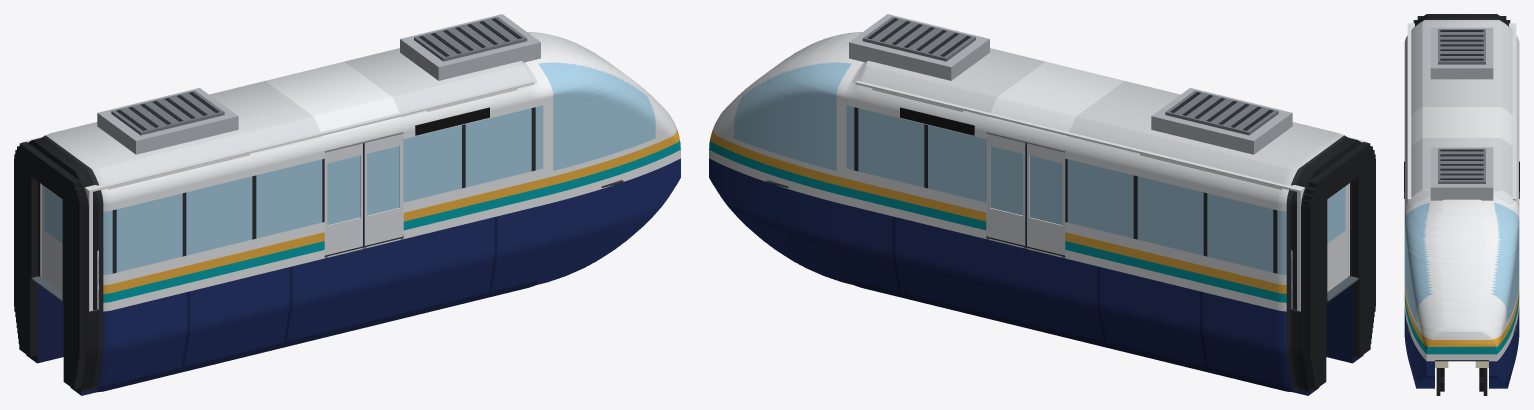
File: las_vegas_front.obj
3 renders of one model, left to right at view 1: azimuth 30°, elevation 25°; view 2: azimuth 150°, elevation 25°; view 3: azimuth 270°, elevation 25°, orthographic. The views are drawn at different scales.
Parts seen in each view (by area): view 1: SHELL, SHELL_roof, SHELL_diaphragm, EXTERNAL_DOOR_3_CG_DR1_TOGGLE_TL_-0.79_X, EXTERNAL_DOOR_4_CG_DR1_TOGGLE_TL_0.79_X, SHELL_ceiling, CONNECTING_DOOR_1_CG_CR_TOGGLE_TL_0.98_Z, SHELL_sign, SHELL_end; view 2: SHELL, SHELL_roof, SHELL_diaphragm, EXTERNAL_DOOR_6_CG_DL1_TOGGLE_TL_-0.79_X, EXTERNAL_DOOR_7_CG_DL1_TOGGLE_TL_0.79_X, SHELL_ceiling, CONNECTING_DOOR_1_CG_CR_TOGGLE_TL_0.98_Z, SHELL_sign, SHELL_end; view 3: SHELL, SHELL_roof, SHELL_ceiling, BOGEY_FRONT, HEADLIGHT_1.
Boxes of the visible parts, box(x1,y1,x2,y2) form: SHELL: box(26, 32, 680, 395); SHELL_roof: box(97, 14, 540, 154); SHELL_diaphragm: box(14, 142, 86, 389); EXTERNAL_DOOR_3_CG_DR1_TOGGLE_TL_-0.79_X: box(324, 143, 364, 255); EXTERNAL_DOOR_4_CG_DR1_TOGGLE_TL_0.79_X: box(364, 133, 403, 245); SHELL_ceiling: box(25, 80, 534, 191); CONNECTING_DOOR_1_CG_CR_TOGGLE_TL_0.98_Z: box(42, 184, 62, 291); SHELL_sign: box(415, 107, 489, 135); SHELL_end: box(22, 141, 92, 311); SHELL: box(709, 32, 1363, 395); SHELL_roof: box(849, 14, 1292, 154); SHELL_diaphragm: box(1303, 142, 1375, 389); EXTERNAL_DOOR_6_CG_DL1_TOGGLE_TL_-0.79_X: box(1025, 143, 1065, 255); EXTERNAL_DOOR_7_CG_DL1_TOGGLE_TL_0.79_X: box(986, 133, 1025, 245); SHELL_ceiling: box(855, 80, 1364, 191); CONNECTING_DOOR_1_CG_CR_TOGGLE_TL_0.98_Z: box(1327, 184, 1347, 291); SHELL_sign: box(900, 107, 974, 135); SHELL_end: box(1297, 141, 1367, 311); SHELL: box(1404, 14, 1519, 388); SHELL_roof: box(1430, 27, 1493, 200); SHELL_ceiling: box(1407, 24, 1516, 200); BOGEY_FRONT: box(1436, 368, 1487, 395); HEADLIGHT_1: box(1435, 361, 1488, 367).
Size of the model in its own units: 13.15 by 4.86 by 2.66.
1 material, 1 textured.
